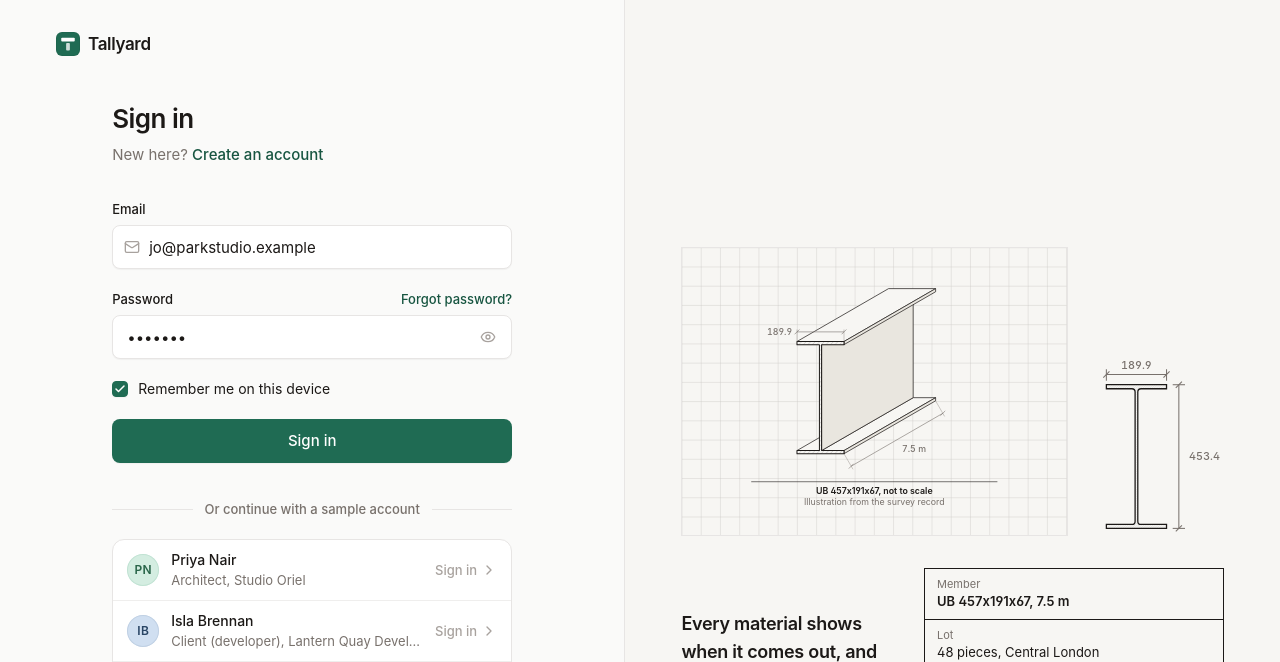
Scenario: sign-in after an upgrade: typos, a stale sign-in and the way to sign up › a browser carried over from the round 2 build also explains an unknown email
The image size is (1280, 662).
In the password field labelled "Password": point(312, 337) [112,315,512,359], type "sandbox"
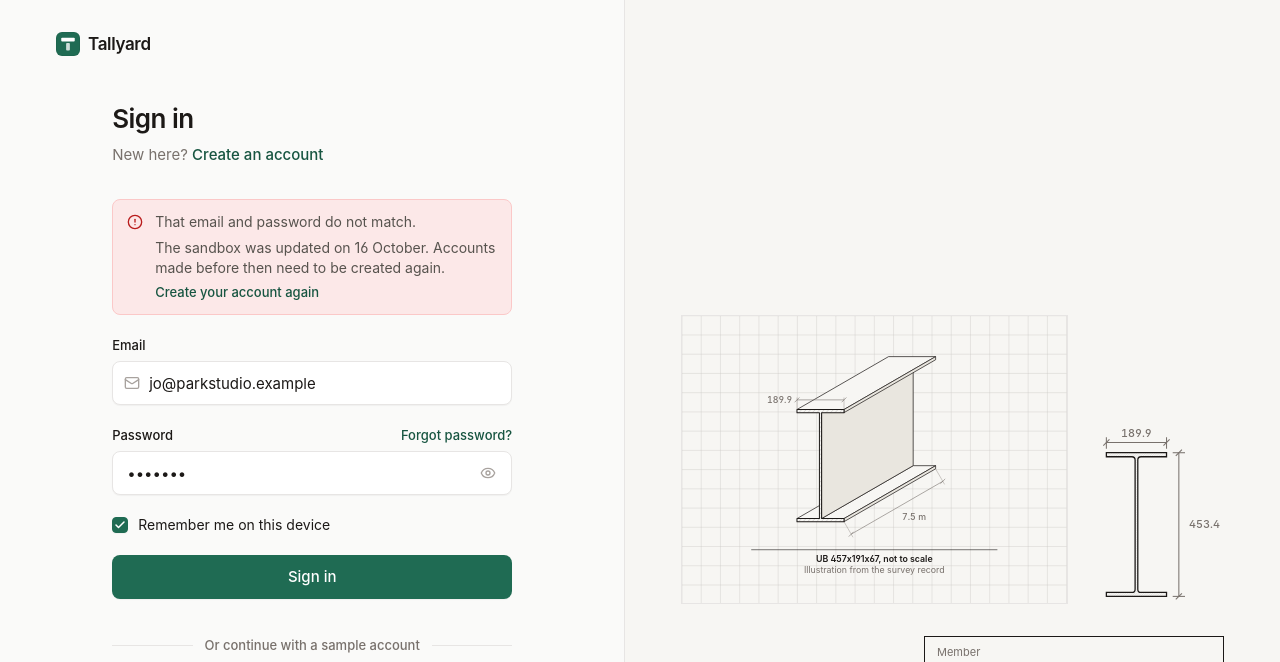
Result: the message is shown at [112,199,512,315]
